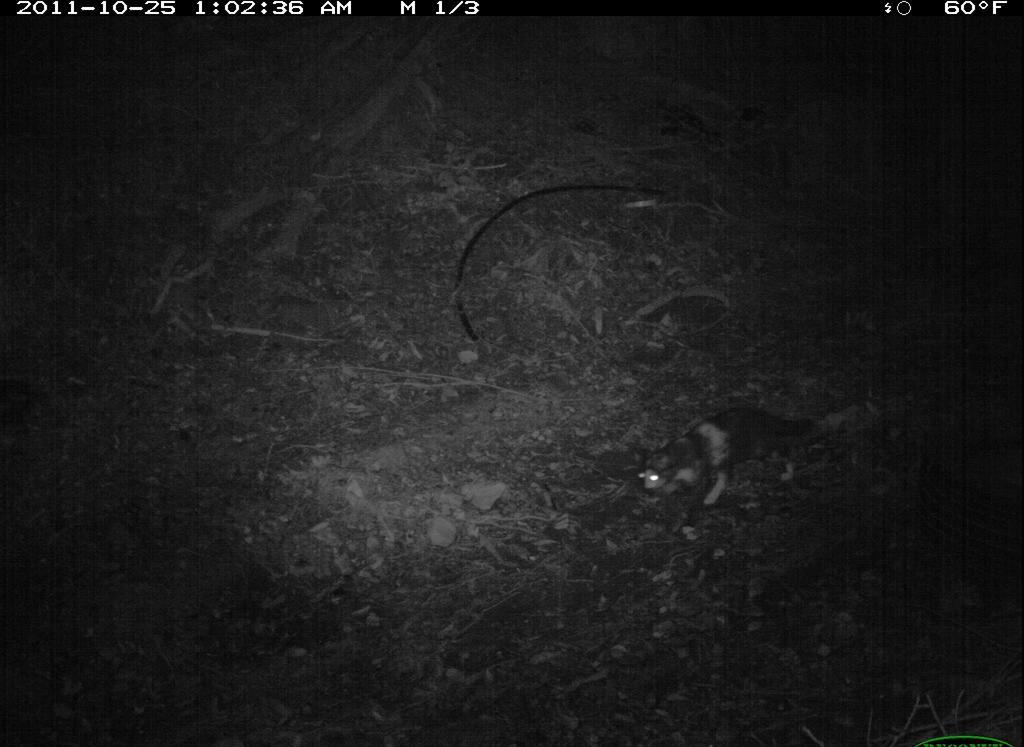cat: (624, 400, 847, 518)
